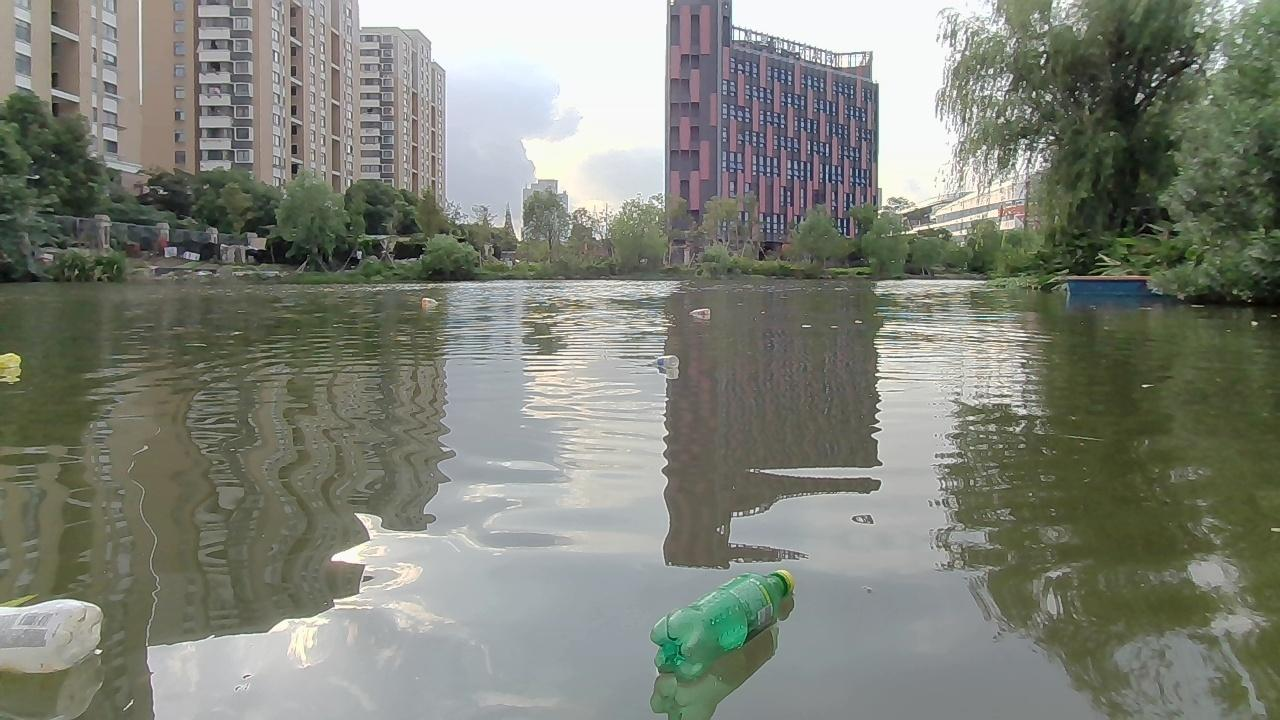bottle: (651, 559, 794, 682), (1, 592, 101, 672), (640, 355, 680, 371), (420, 294, 441, 311), (1, 352, 16, 372), (687, 304, 707, 317)
